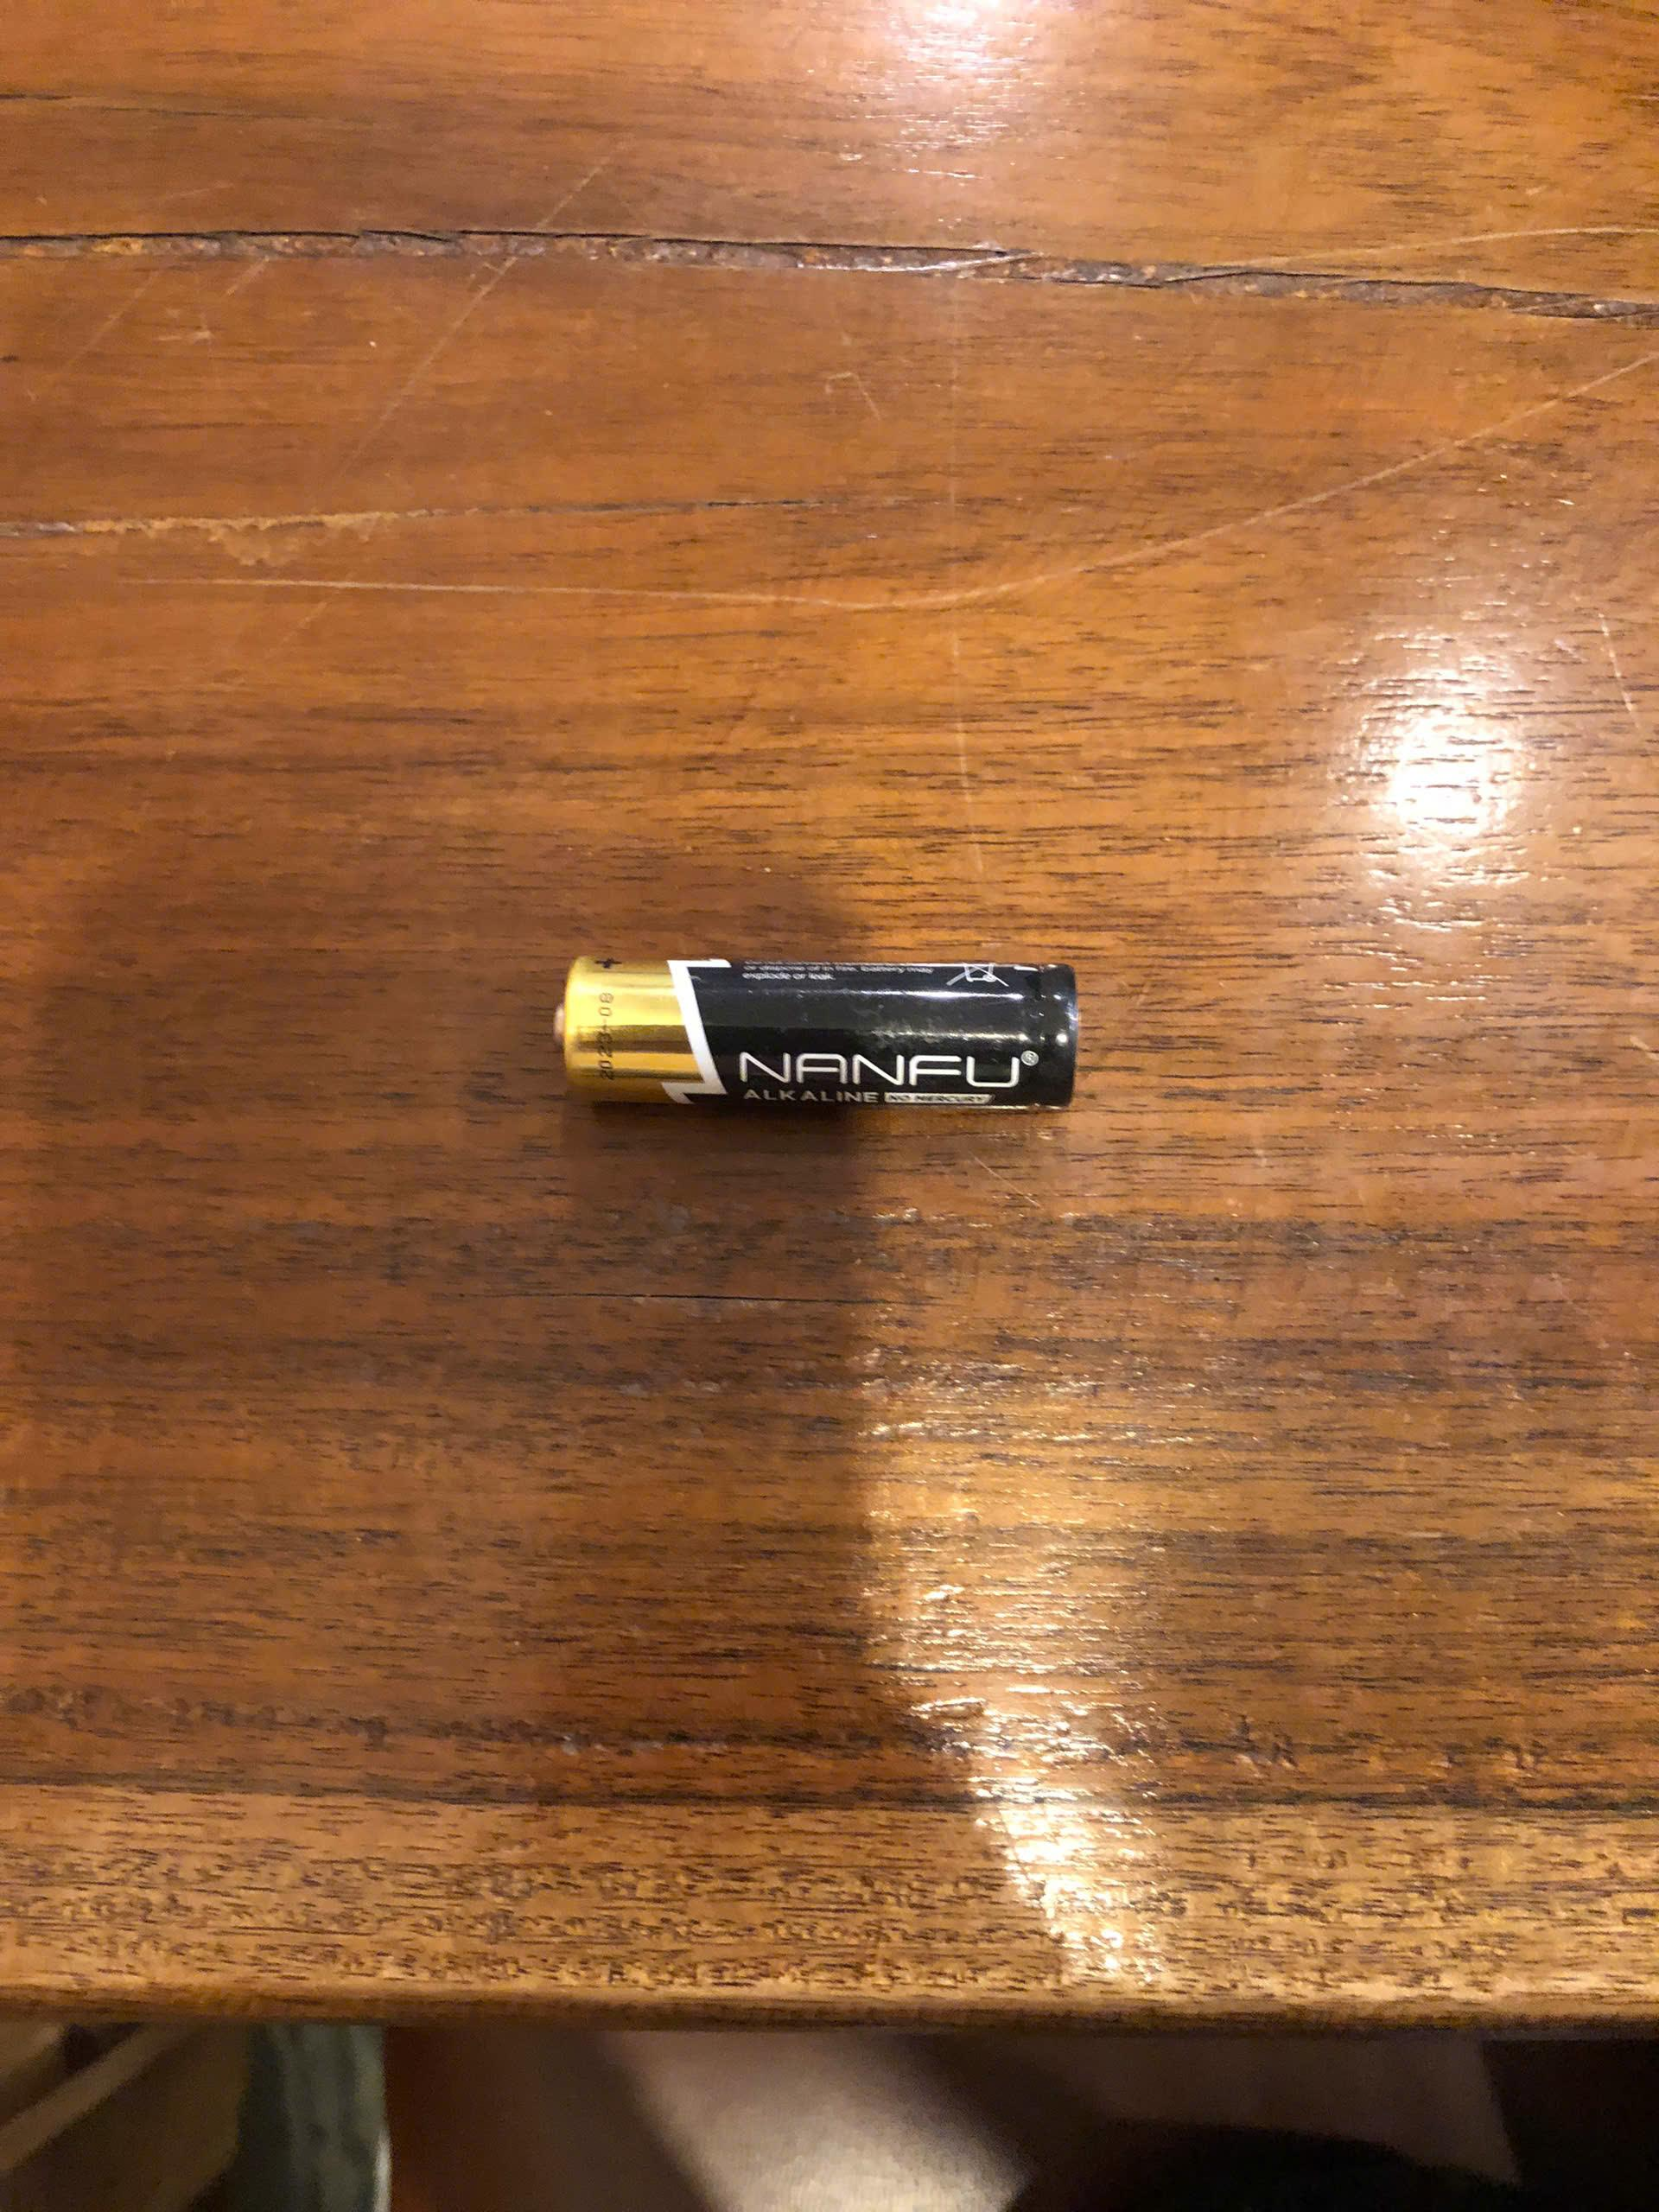Con lai: (540, 942, 1087, 1134)
